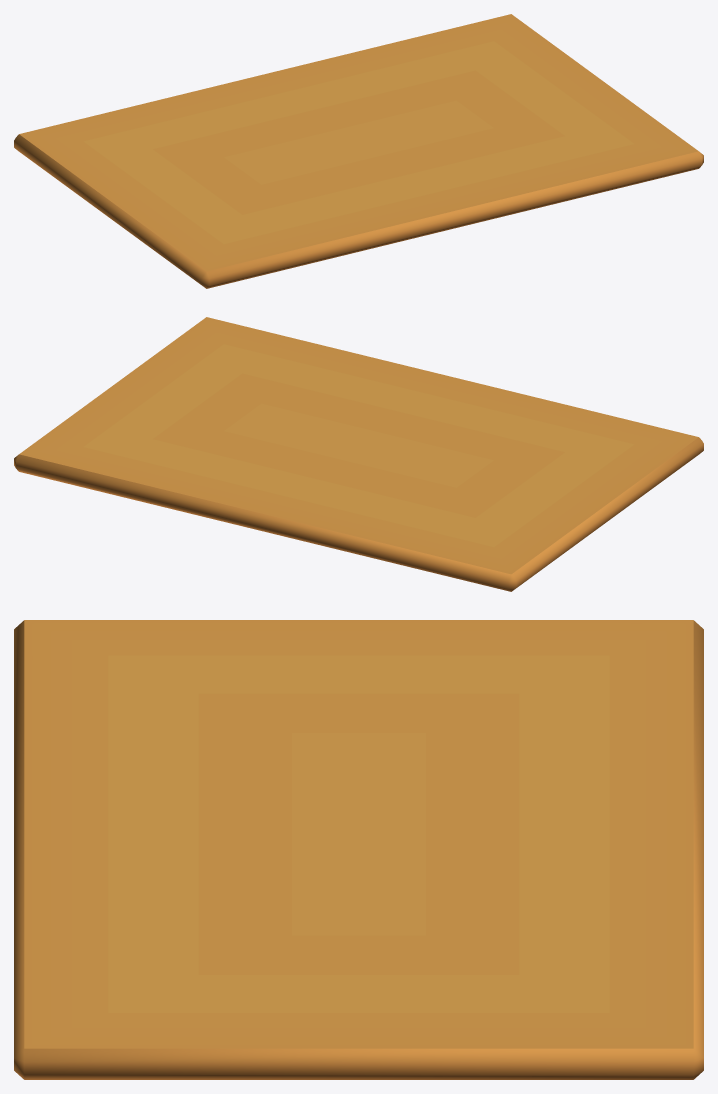
The model's file is K_rug_rectangle_stripes_A.glb.
The picture shows the model from 3 angles, top to bottom: view 1: azimuth 30°, elevation 25°; view 2: azimuth 150°, elevation 25°; view 3: azimuth 270°, elevation 25°; orthographic projection. The views are drawn at different scales.
Parts seen in each view (by area): view 1: rug_rectangle_stripes_A; view 2: rug_rectangle_stripes_A; view 3: rug_rectangle_stripes_A.
Boxes of the visible parts, x1,y1,x2,y2 form: rug_rectangle_stripes_A: (14, 14, 703, 288); rug_rectangle_stripes_A: (14, 317, 703, 591); rug_rectangle_stripes_A: (14, 620, 703, 1079).
Size of the model in its own units: 3 by 0.1 by 2.
